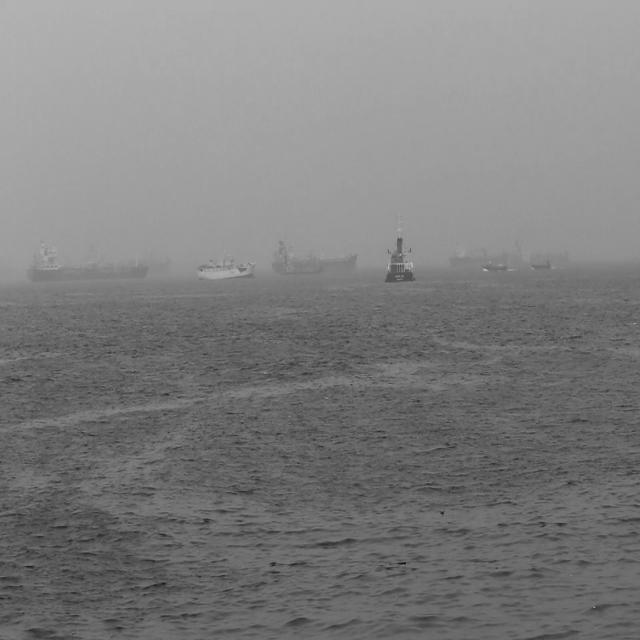ship: (28, 238, 148, 278), (272, 240, 359, 276), (385, 212, 415, 284), (196, 253, 256, 280), (448, 246, 516, 264), (528, 260, 554, 271), (482, 262, 508, 272)
